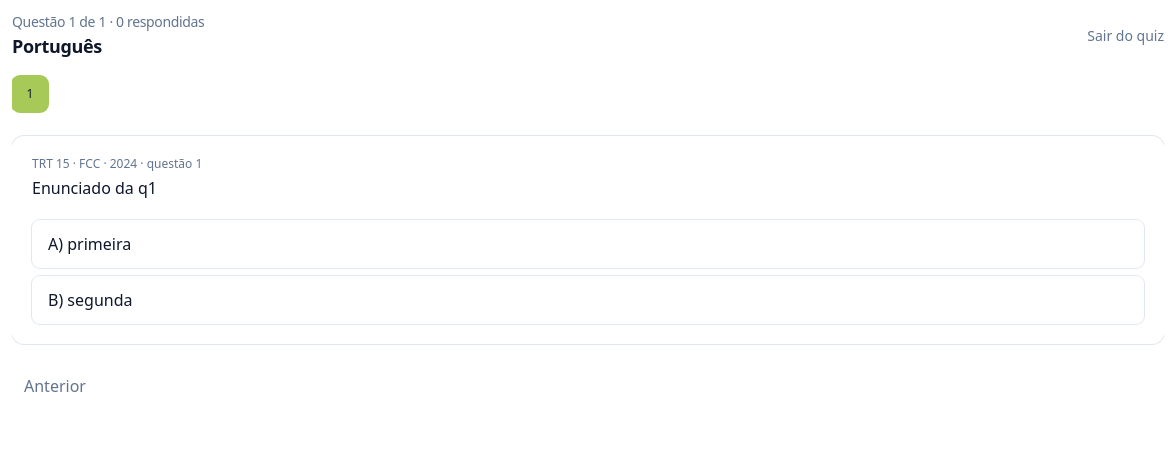
Scenario: QuizExecucaoComponent › mantém a resposta local fora quando o banco recusa
The width and height of the screenshot is (1176, 461).
Click the button "A) primeira" at (97, 244), box [32,220,1144,268]
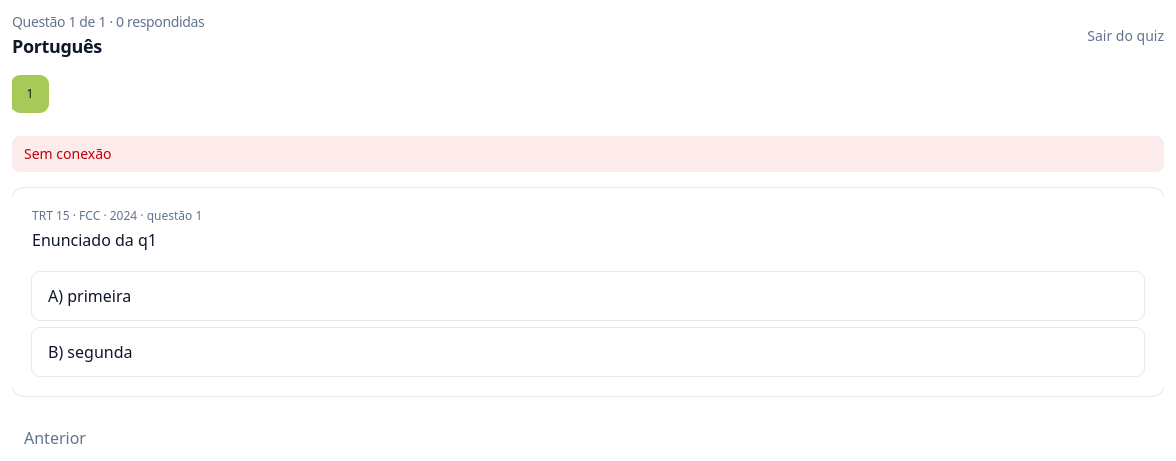
expect the text "Sem conexão" is shown: met, box [12,136,1164,172]
